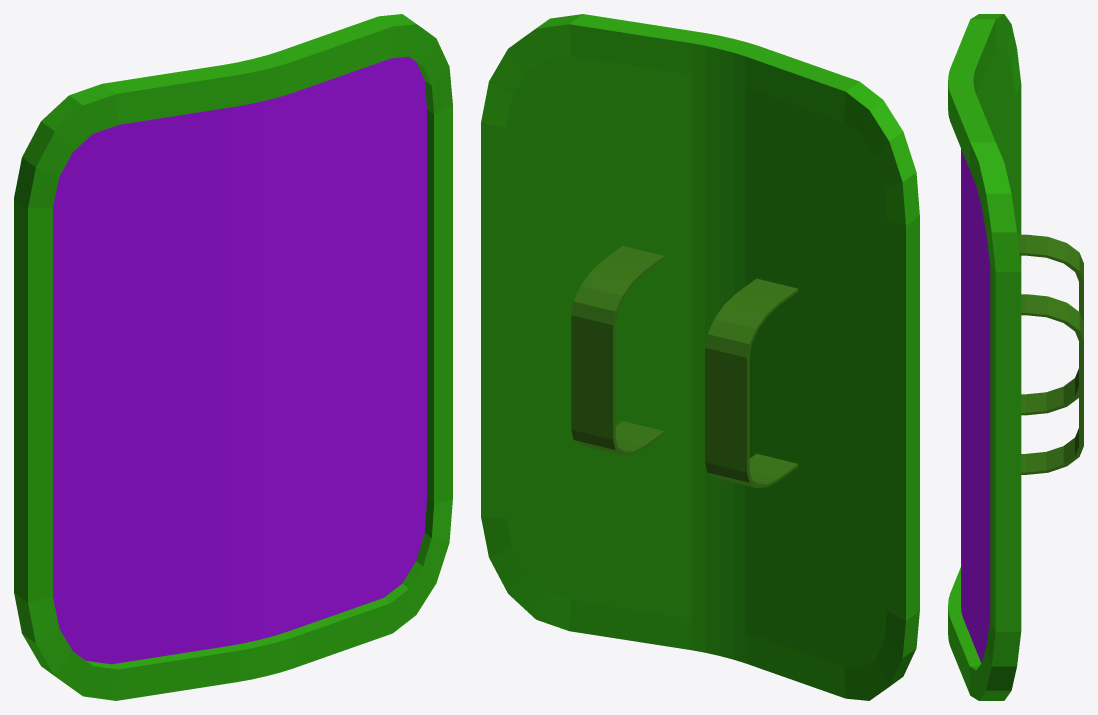
The model's file is Poison Shield.fbx.
The picture shows the model from 3 angles, left to right: view 1: azimuth 30°, elevation 25°; view 2: azimuth 150°, elevation 25°; view 3: azimuth 270°, elevation 25°; orthographic projection. The views are drawn at different scales.
Parts seen in each view (by area): view 1: Shield; view 2: Shield, Shield Holders; view 3: Shield, Shield Holders.
Boxes of the visible parts, x1,y1,x2,y2 form: Shield: (14, 14, 452, 700); Shield: (481, 14, 919, 700); Shield Holders: (571, 246, 798, 487); Shield: (948, 14, 1021, 700); Shield Holders: (1017, 234, 1083, 474).
Bounding box in the file's own units: 71.05 × 96.99 × 21.58.
